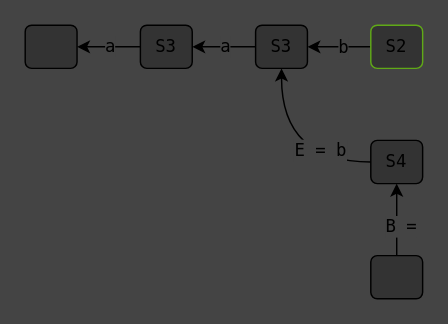
Some shapes in this 448 by 324 pixel diagram are drawn without their labels. The shapes that lost their labels are listed below. From the top down, each one's centre as x and y in pixels, then its label:
At (50,46): "S0".
At (396,276): "S5".
